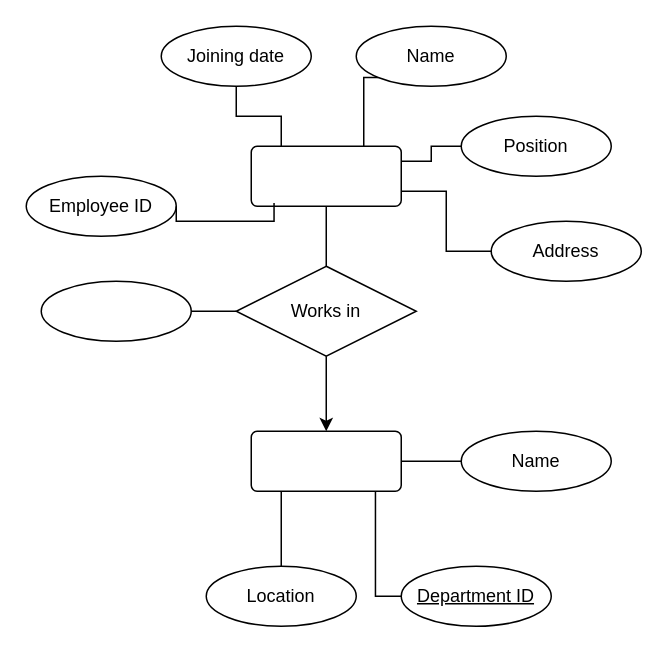
Some shapes in this 668 by 653 pixel diagram are drawn without their labels. Here are the shapes that lost their labels. From the top down, the box of each, then its label:
(250, 145, 401, 206): Employee
(40, 280, 191, 341): Task
(250, 430, 401, 491): Department
